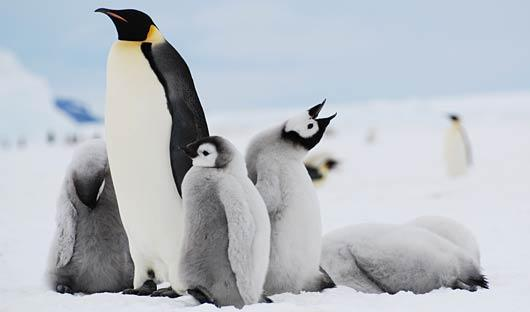emporer: (74, 0, 238, 292)
